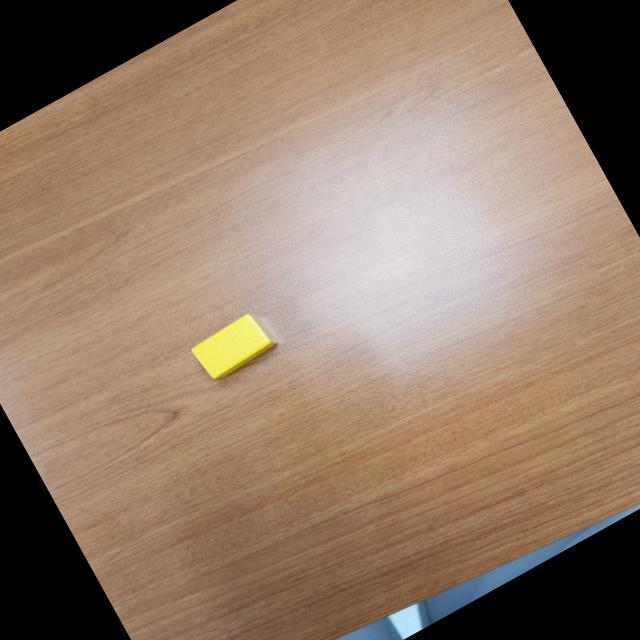yellow: (190, 306, 282, 385)
